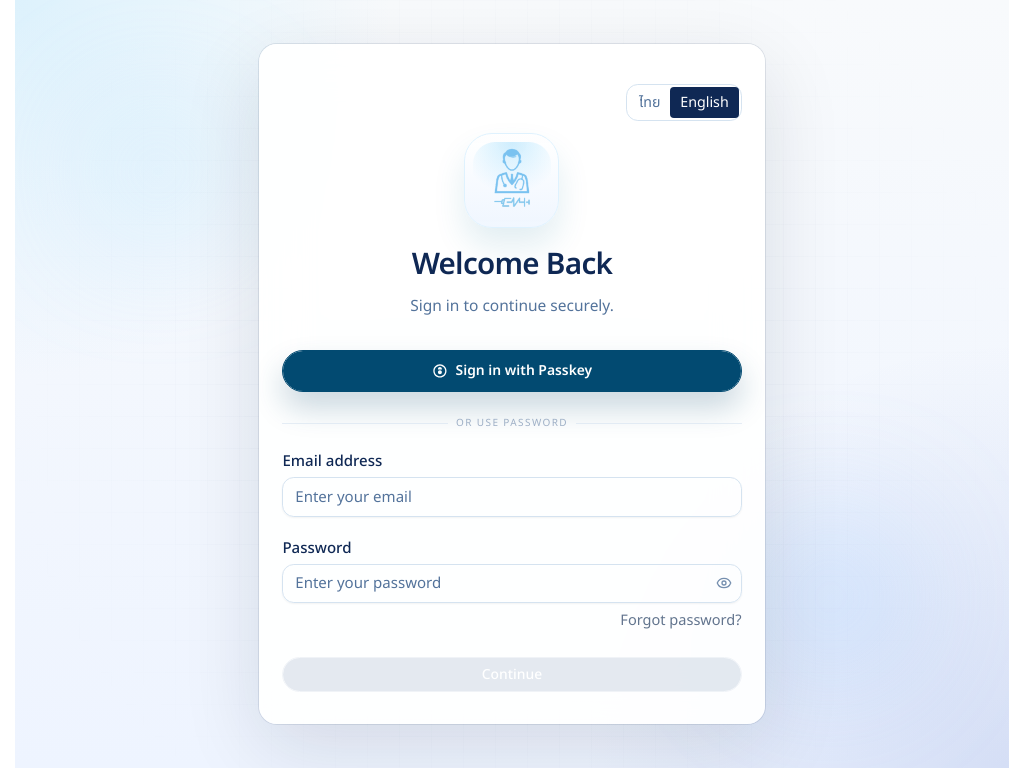
LoginClientPage › shows a soft passkey guidance message without logging an error for unknown passkeys
Click the button "Sign in with Passkey": (512,371) [282,350,742,392]
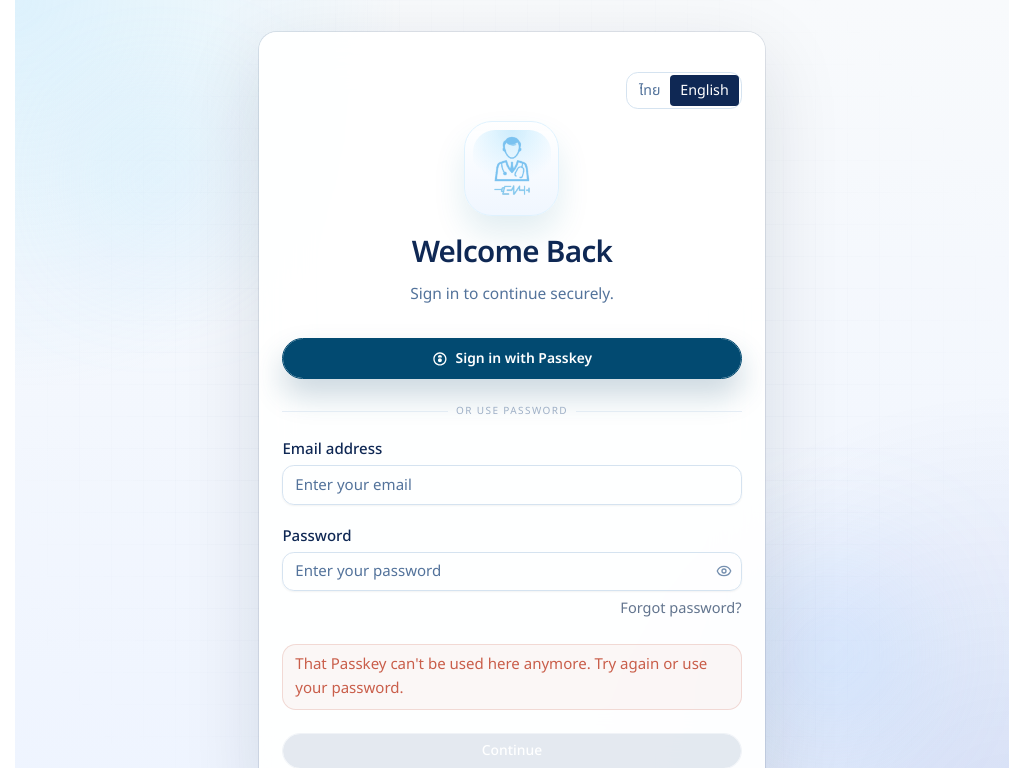
Check: the text "That Passkey can't be used here anymore. Try again or use your password." is shown, box [282,644,742,710]
